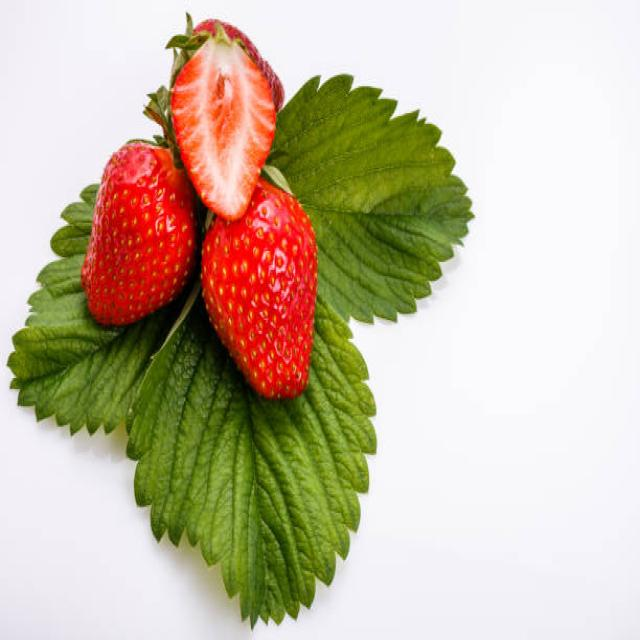Healthy Fruit: (200, 184, 316, 399), (81, 136, 197, 324)
